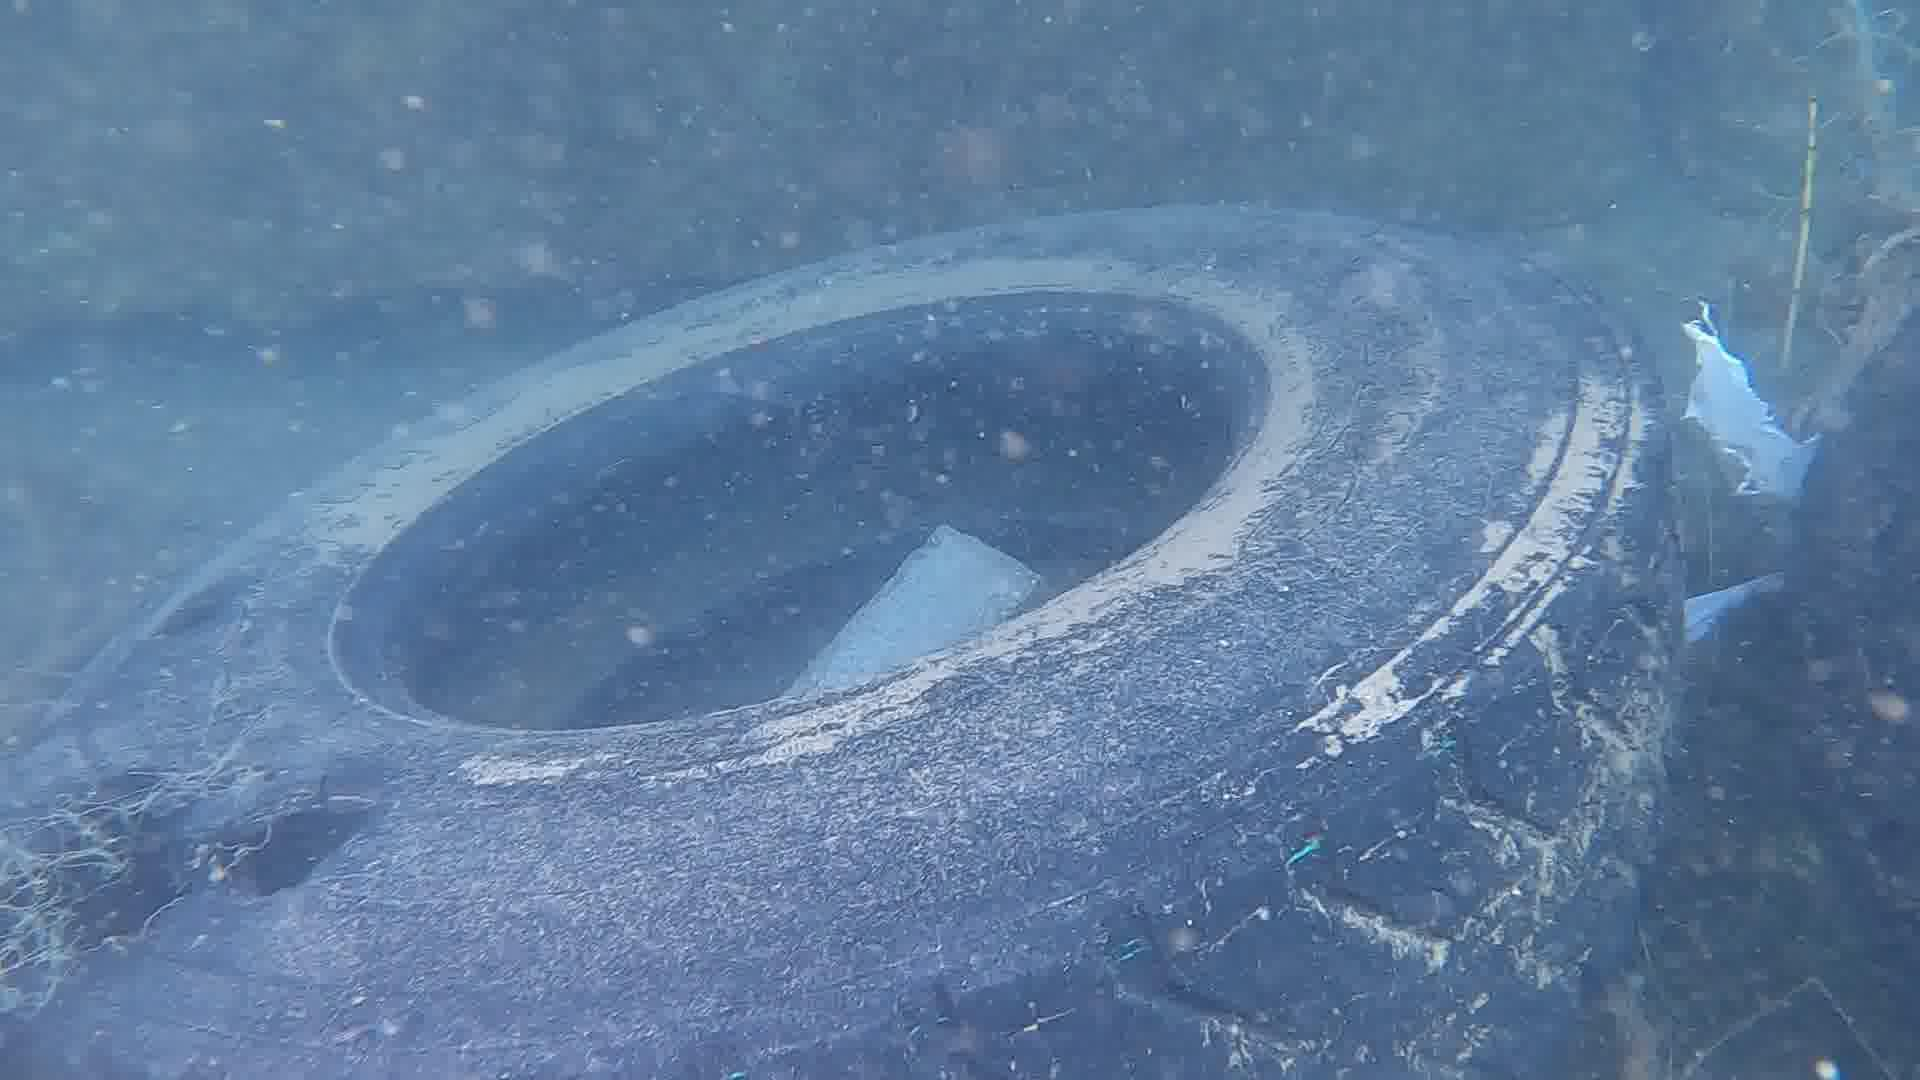tire: (0, 200, 1687, 1080)
